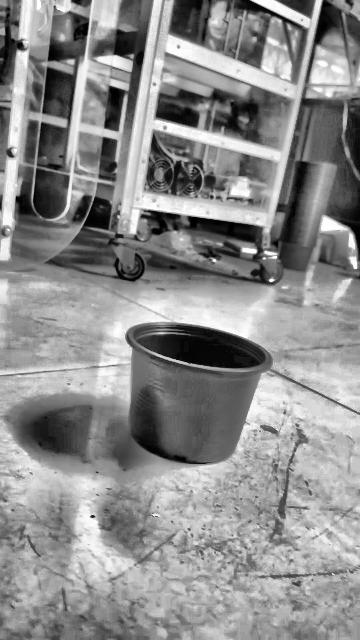pot: (124, 322, 271, 463)
